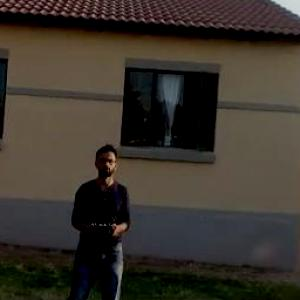follow: (57, 139, 132, 299)
